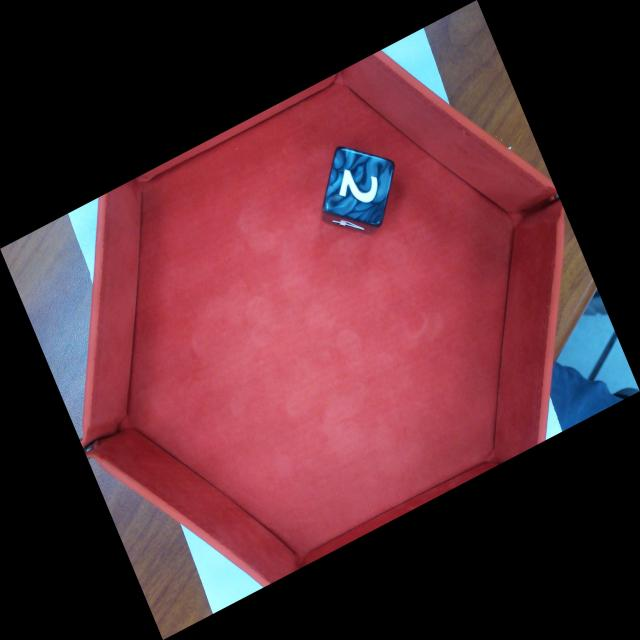dice: (320, 145, 398, 232)
